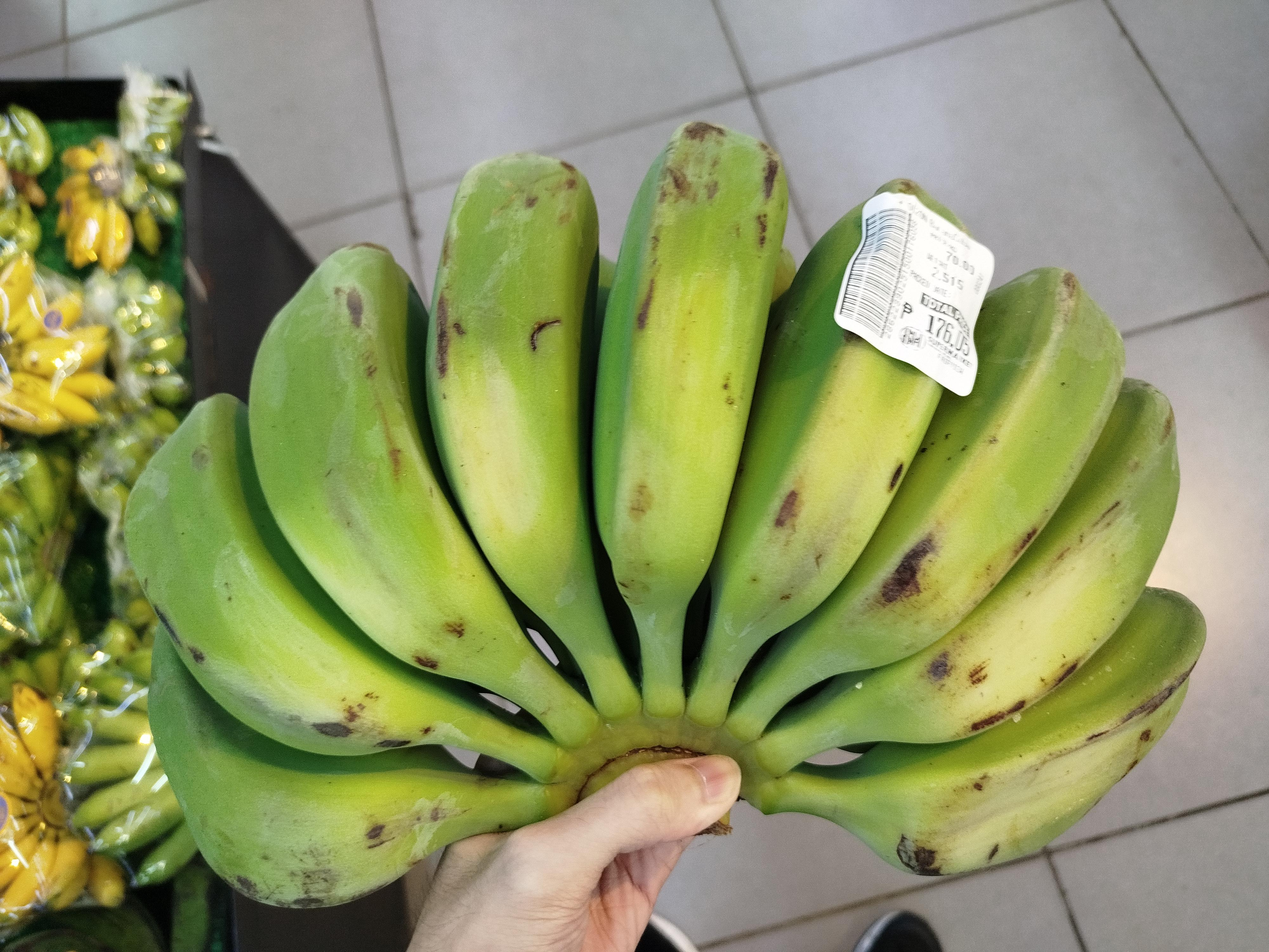underripe: (126, 122, 1204, 907)
